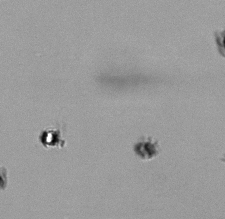Dead Cell: (134, 140, 159, 160)
Living Cell: (41, 128, 62, 148)
